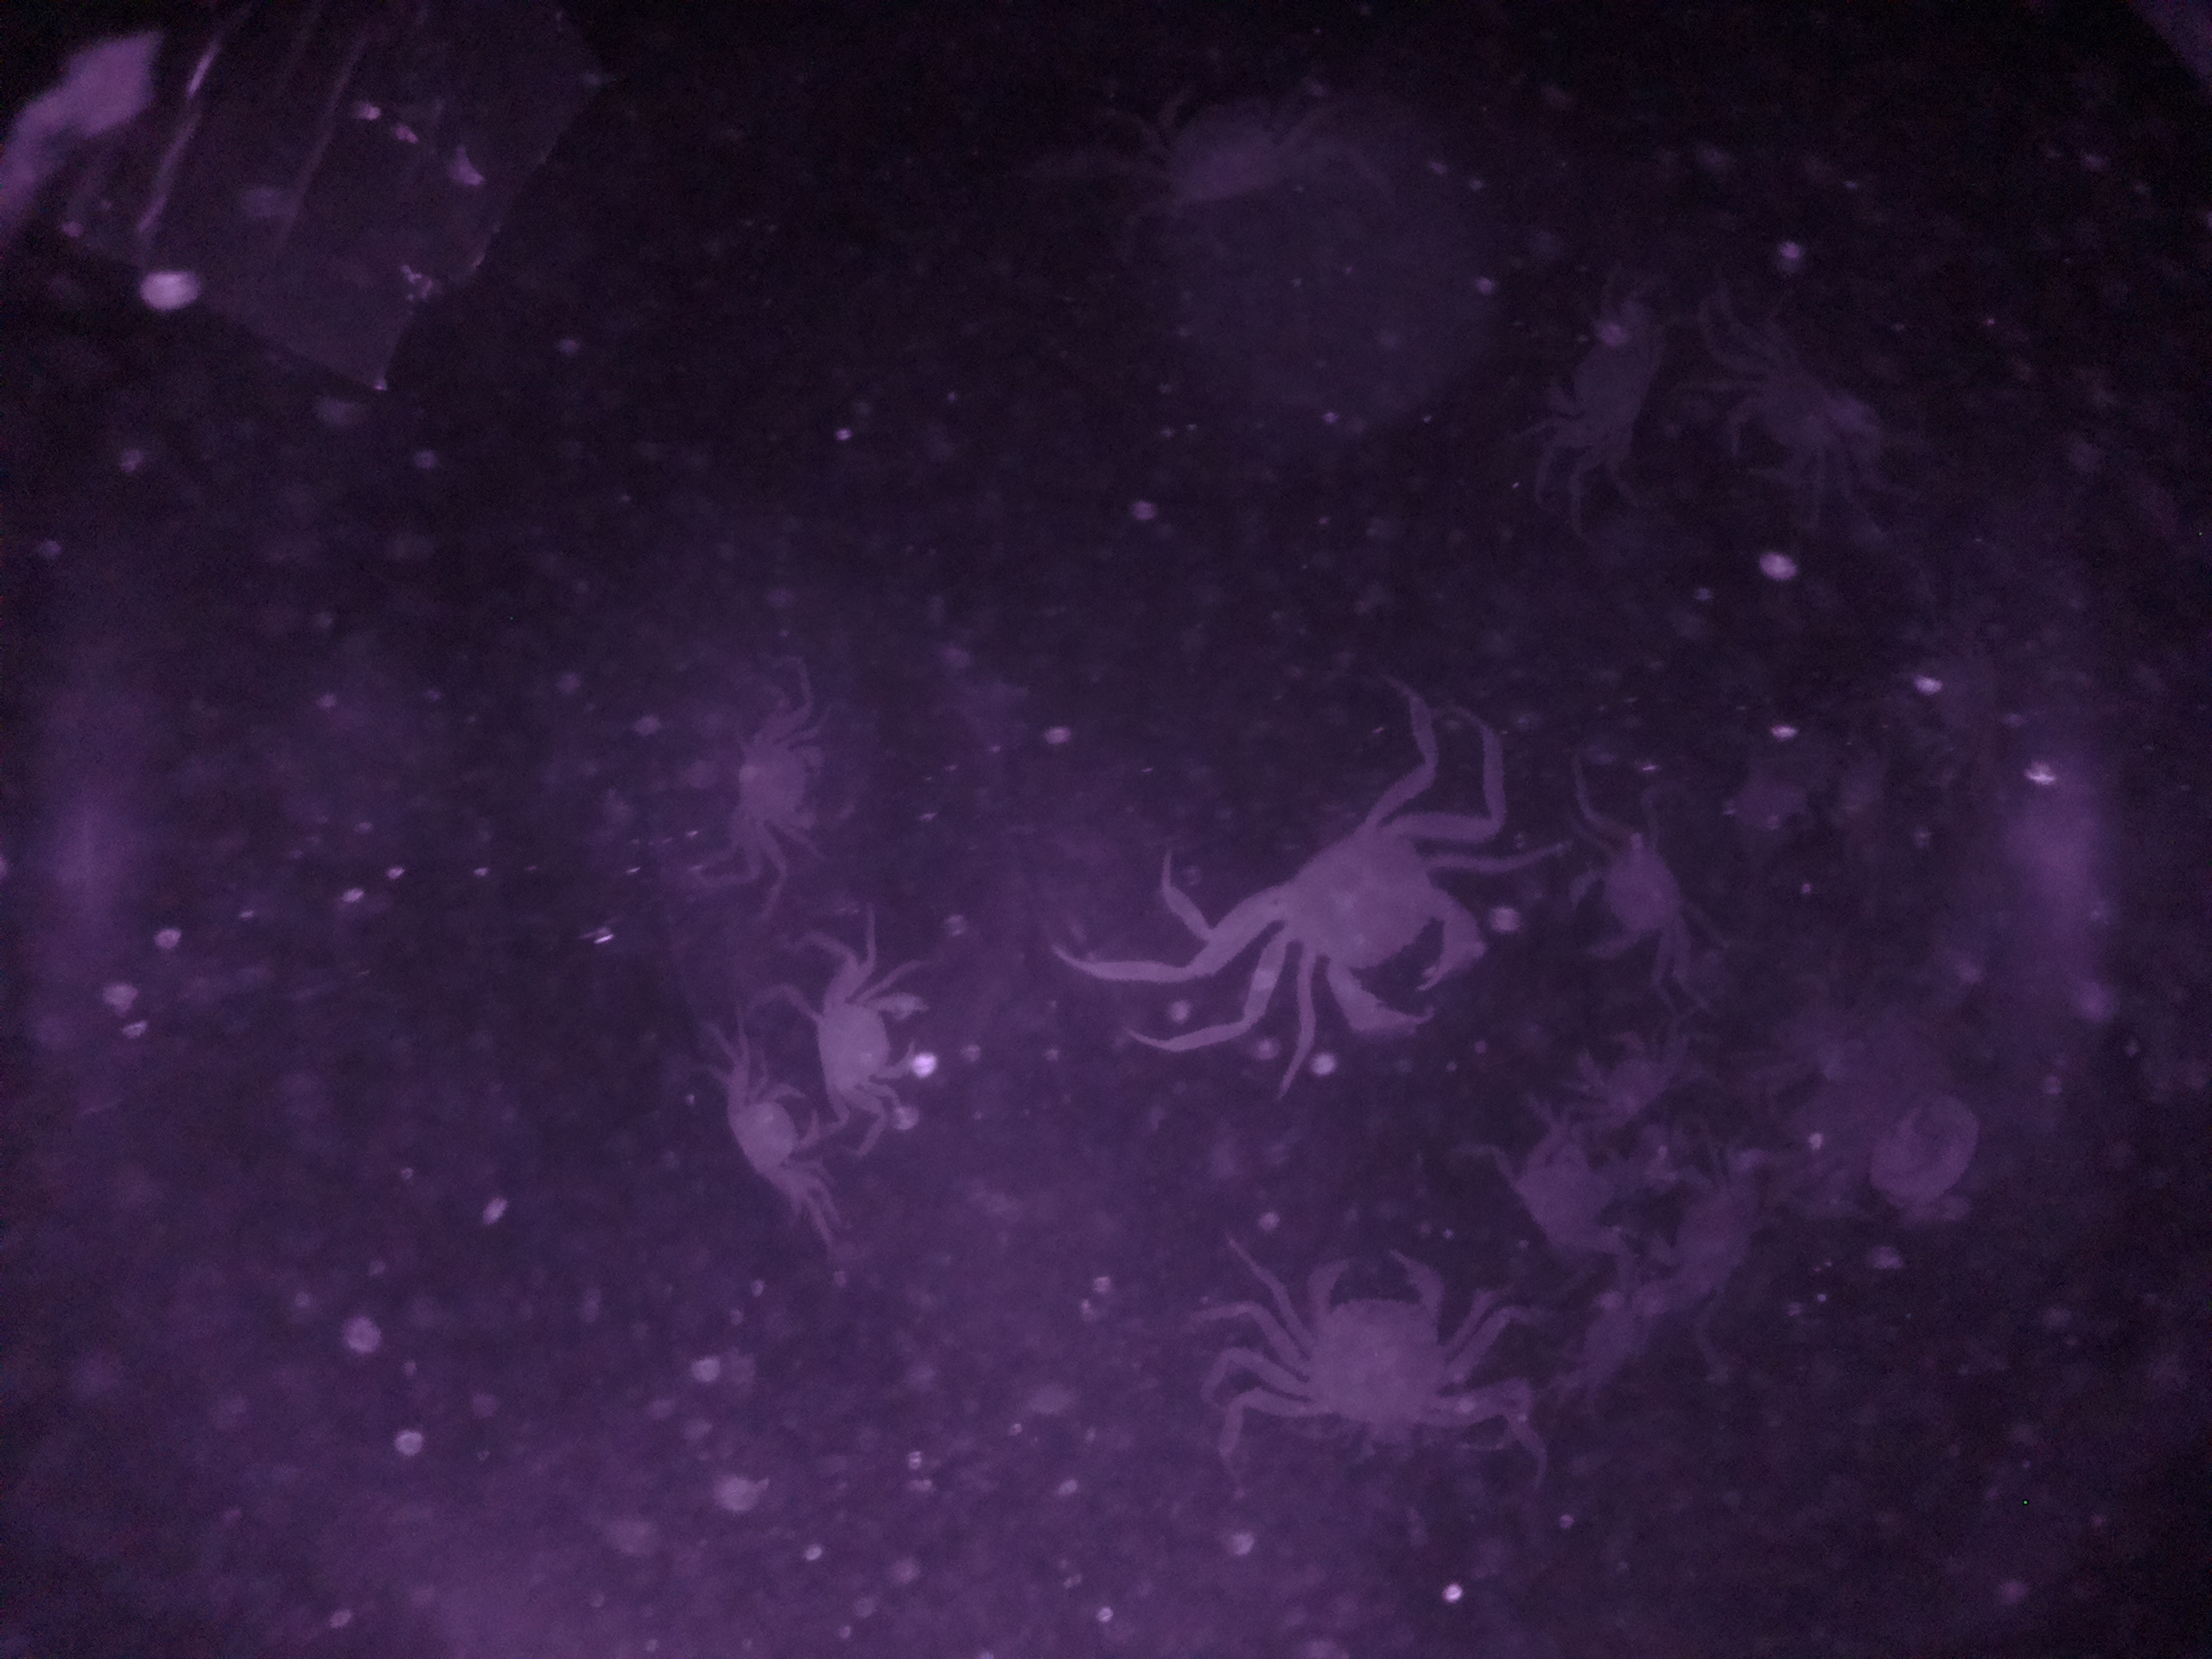Crab: (1237, 784, 1498, 1060), (1251, 1243, 1486, 1446), (1550, 814, 1705, 993), (796, 958, 935, 1122), (712, 695, 845, 866), (721, 1053, 827, 1218)
